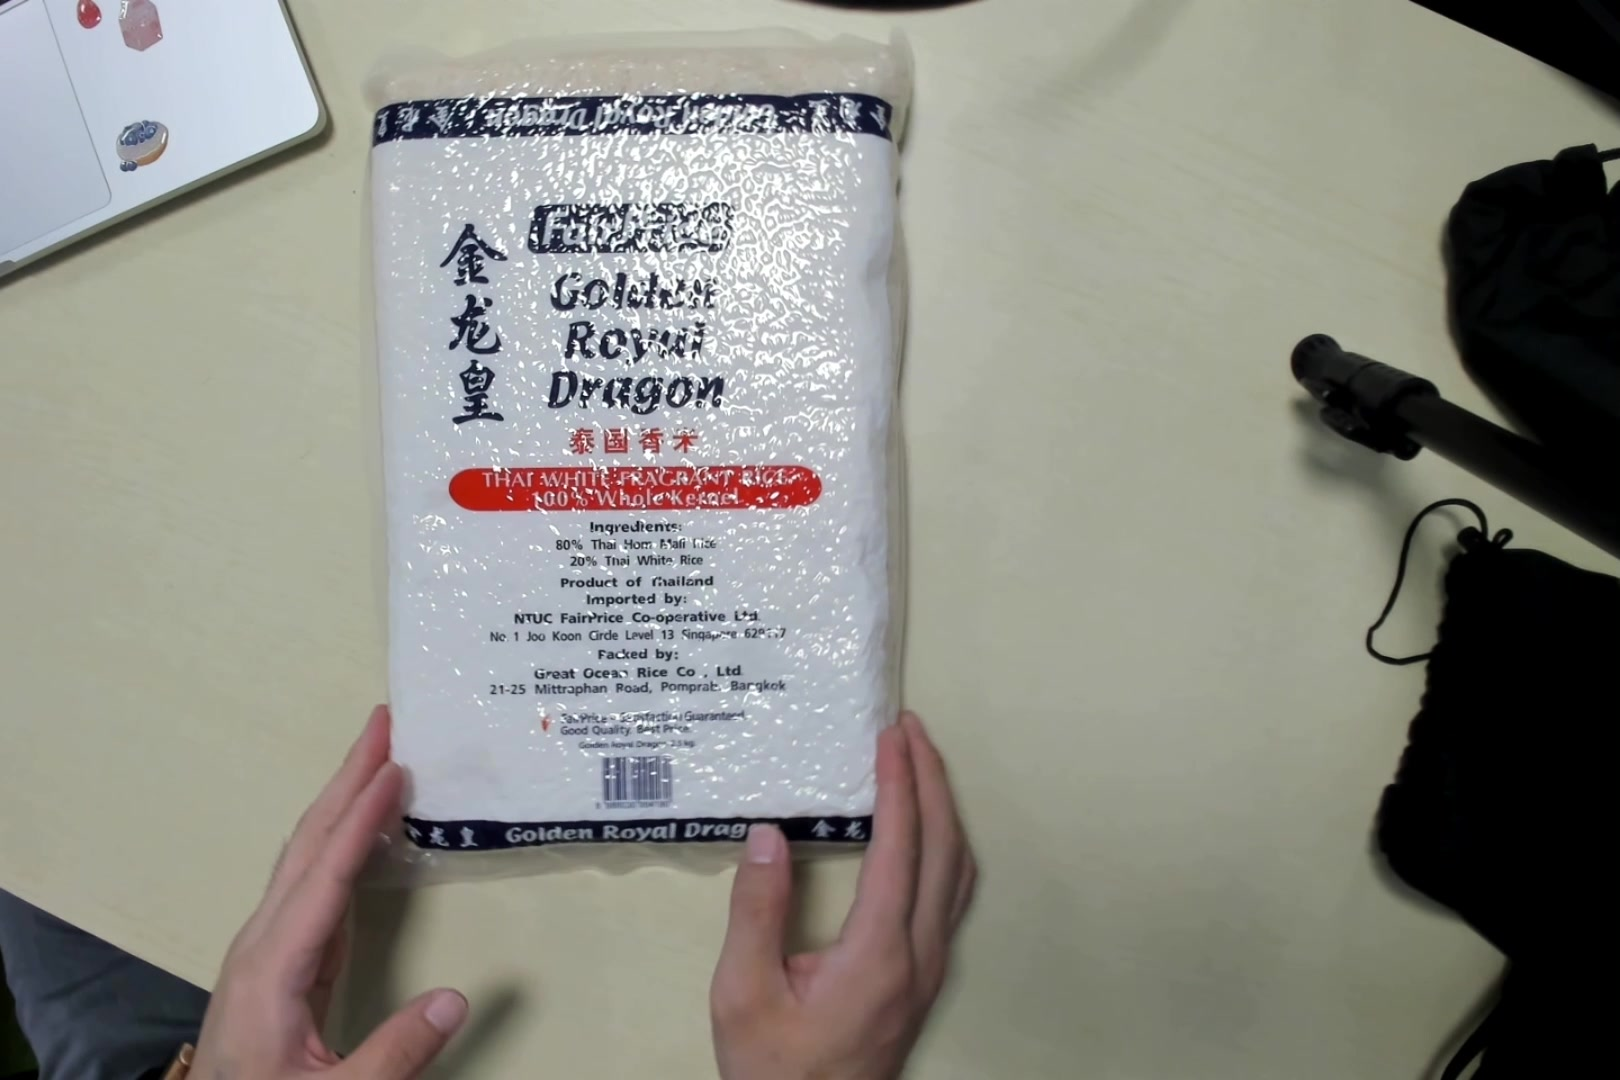Rice(White)_2000-2999g_NonHalal_NonHealthy: (366, 51, 896, 849)
